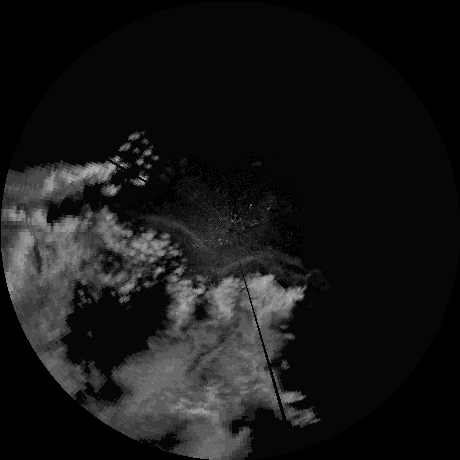frontgust: (129, 213, 213, 256), (212, 254, 318, 283)
